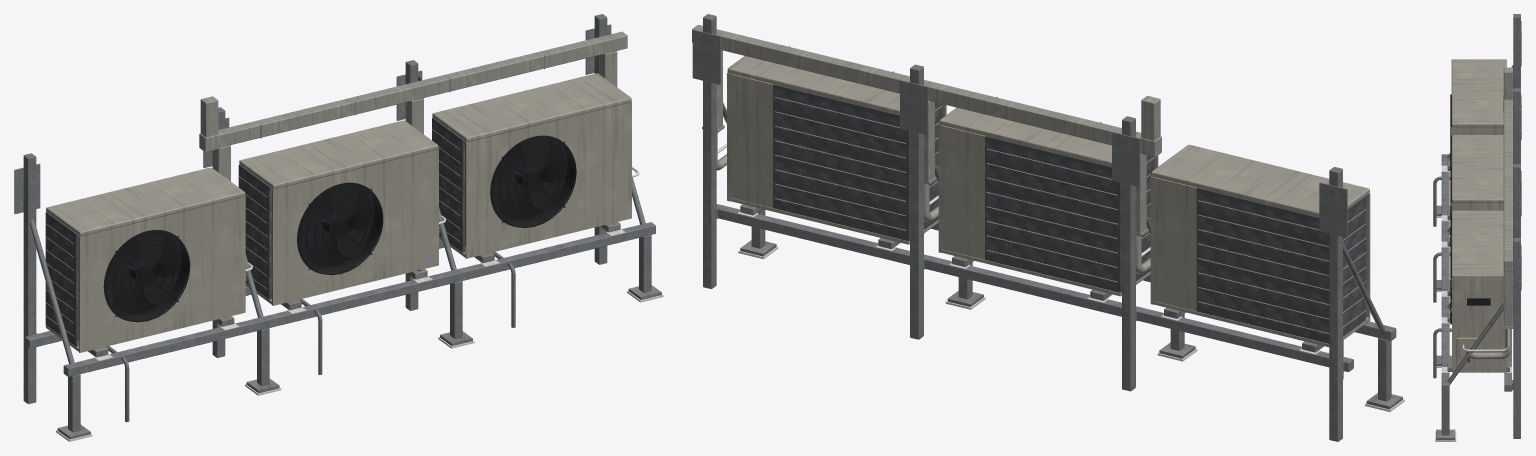
File: ac_cassette_row.glb
3 views of the same model, side by side, from view 1: azimuth 30°, elevation 25°; view 2: azimuth 150°, elevation 25°; view 3: azimuth 270°, elevation 25° (orthographic). The views are drawn at different scales.
Parts seen in each view (by area): view 1: part_unit_1_LOD0, part_unit_2_LOD0, part_unit_3_LOD0, part_rack_LOD0, part_trunking_LOD0, part_fan_1_LOD0, part_fan_2_LOD0, part_fan_3_LOD0, part_grille_1_LOD0, part_grille_2_LOD0, part_grille_3_LOD0, part_drains_LOD0; view 2: part_unit_1_LOD0, part_rack_LOD0, part_unit_2_LOD0, part_unit_3_LOD0, part_trunking_LOD0; view 3: part_unit_3_LOD0, part_rack_LOD0, part_unit_1_LOD0, part_unit_2_LOD0, part_trunking_LOD0, part_drains_LOD0, part_grille_3_LOD0, part_grille_1_LOD0, part_grille_2_LOD0.
Boxes of the visible parts, bbox=[...] form: part_unit_1_LOD0: bbox=[45, 167, 245, 357]; part_unit_2_LOD0: bbox=[238, 120, 438, 310]; part_unit_3_LOD0: bbox=[432, 73, 631, 263]; part_rack_LOD0: bbox=[14, 14, 663, 441]; part_trunking_LOD0: bbox=[199, 31, 639, 284]; part_fan_1_LOD0: bbox=[104, 234, 180, 313]; part_fan_2_LOD0: bbox=[298, 187, 373, 266]; part_fan_3_LOD0: bbox=[491, 139, 566, 219]; part_grille_1_LOD0: bbox=[105, 231, 190, 322]; part_grille_2_LOD0: bbox=[298, 184, 383, 275]; part_grille_3_LOD0: bbox=[491, 137, 576, 228]; part_drains_LOD0: bbox=[106, 251, 515, 422]; part_unit_1_LOD0: bbox=[1150, 144, 1370, 352]; part_rack_LOD0: bbox=[692, 14, 1404, 441]; part_unit_2_LOD0: bbox=[938, 107, 1158, 300]; part_unit_3_LOD0: bbox=[727, 56, 946, 248]; part_trunking_LOD0: bbox=[692, 25, 1161, 273]; part_unit_3_LOD0: bbox=[1447, 210, 1509, 372]; part_rack_LOD0: bbox=[1435, 14, 1521, 441]; part_unit_1_LOD0: bbox=[1447, 59, 1506, 220]; part_unit_2_LOD0: bbox=[1447, 135, 1503, 296]; part_trunking_LOD0: bbox=[1462, 67, 1513, 362]; part_drains_LOD0: bbox=[1433, 176, 1451, 378]; part_grille_3_LOD0: bbox=[1450, 246, 1451, 324]; part_grille_1_LOD0: bbox=[1450, 94, 1451, 170]; part_grille_2_LOD0: bbox=[1450, 170, 1451, 246].
Size of what is drawn, in the model's own units: 2.87 by 1.2 by 0.454.
Materials: 14 (13 with a texture image).
